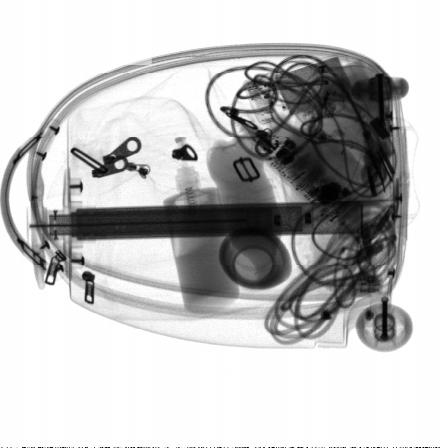Powerbank: (243, 51, 364, 125)
